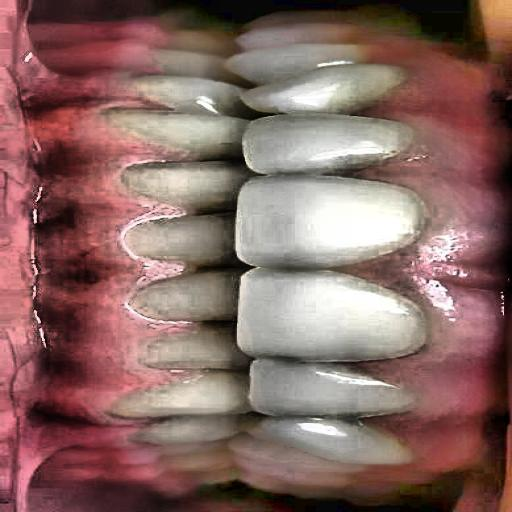Healthy: (74, 1, 440, 512)
